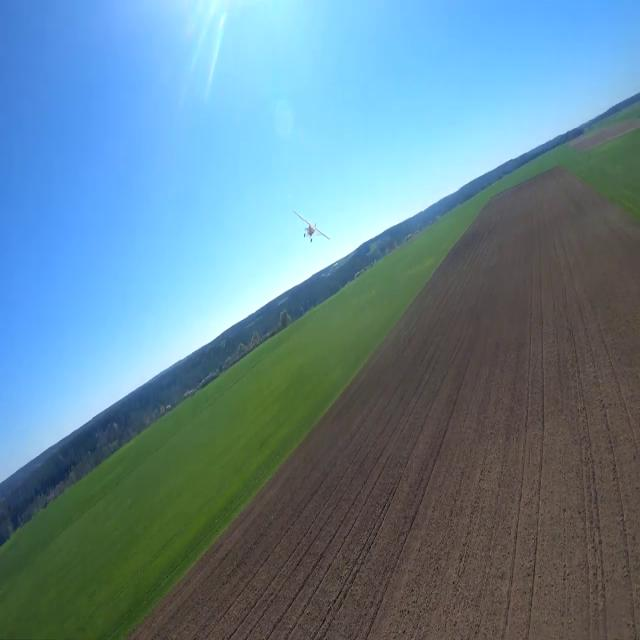iha: (293, 212, 331, 244)
